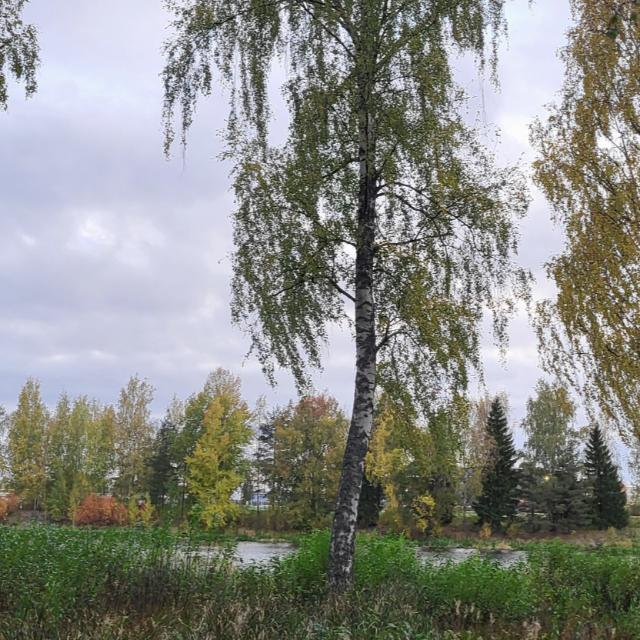birch: (304, 0, 410, 594)
